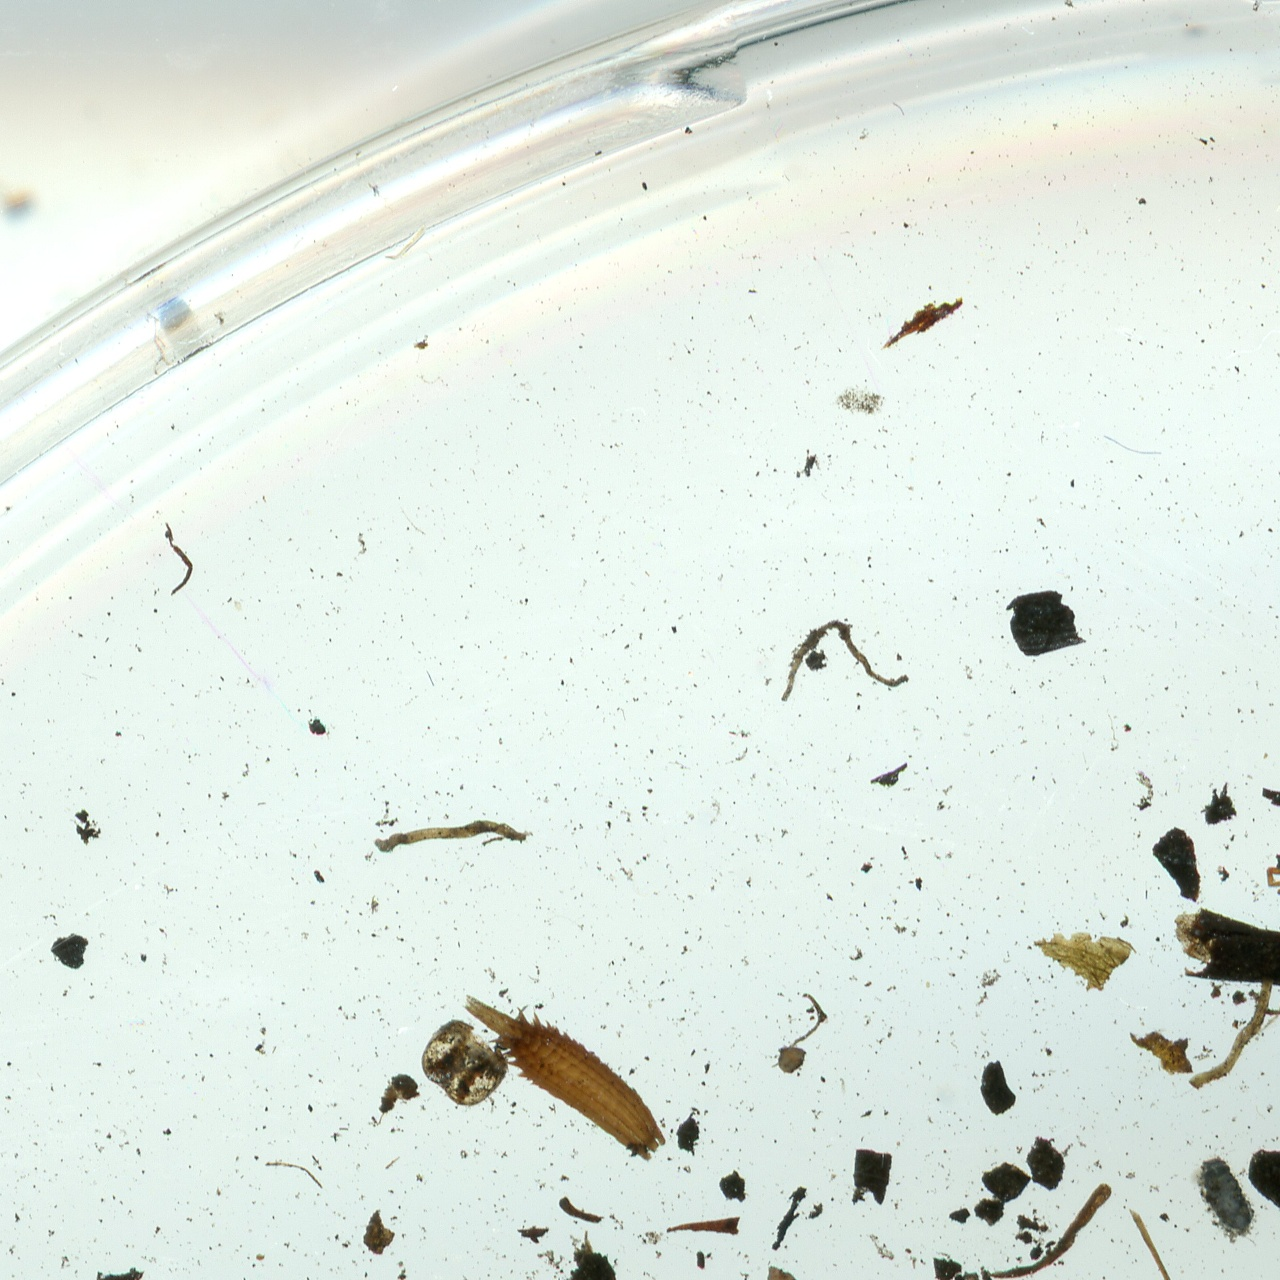arthropod: (441, 963, 691, 1175), (1180, 1145, 1271, 1256), (1265, 847, 1280, 973)
